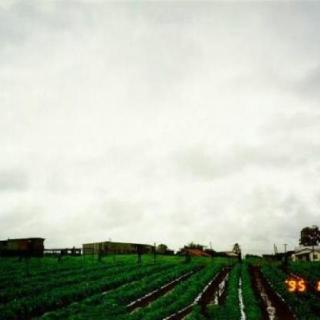Stratus: (2, 0, 320, 224)
